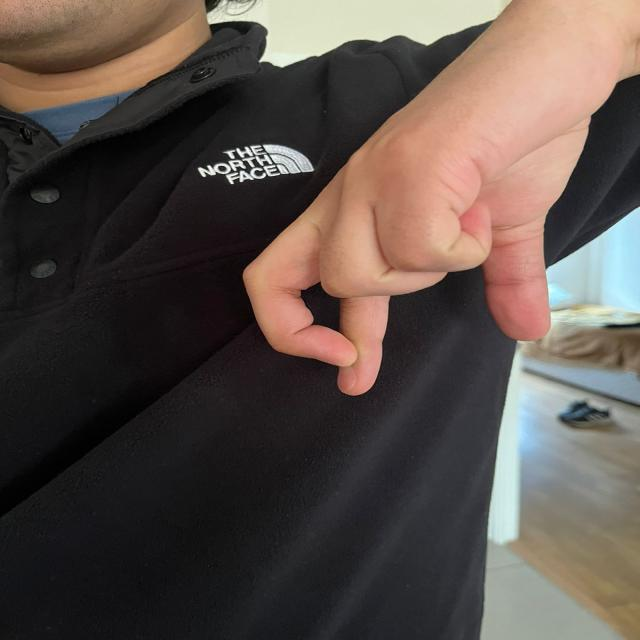P: (236, 90, 600, 394)
